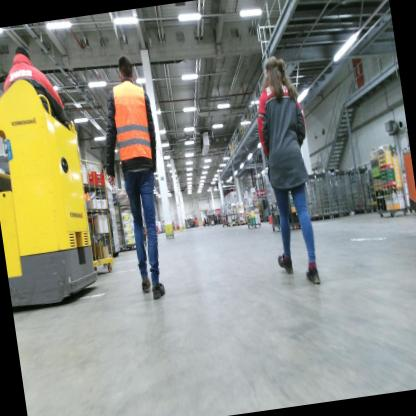pallet_truck: (0, 69, 110, 310), (398, 136, 416, 217), (187, 213, 200, 226), (200, 215, 209, 228)
